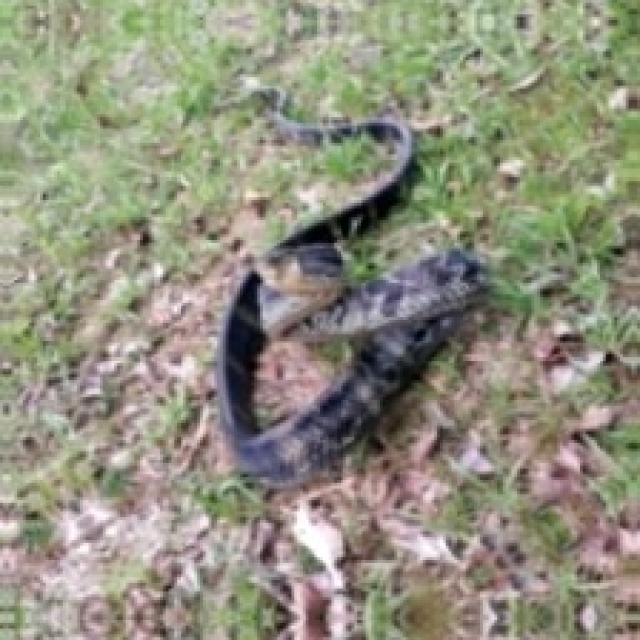dog-toothed cat snake: (217, 109, 483, 483)
